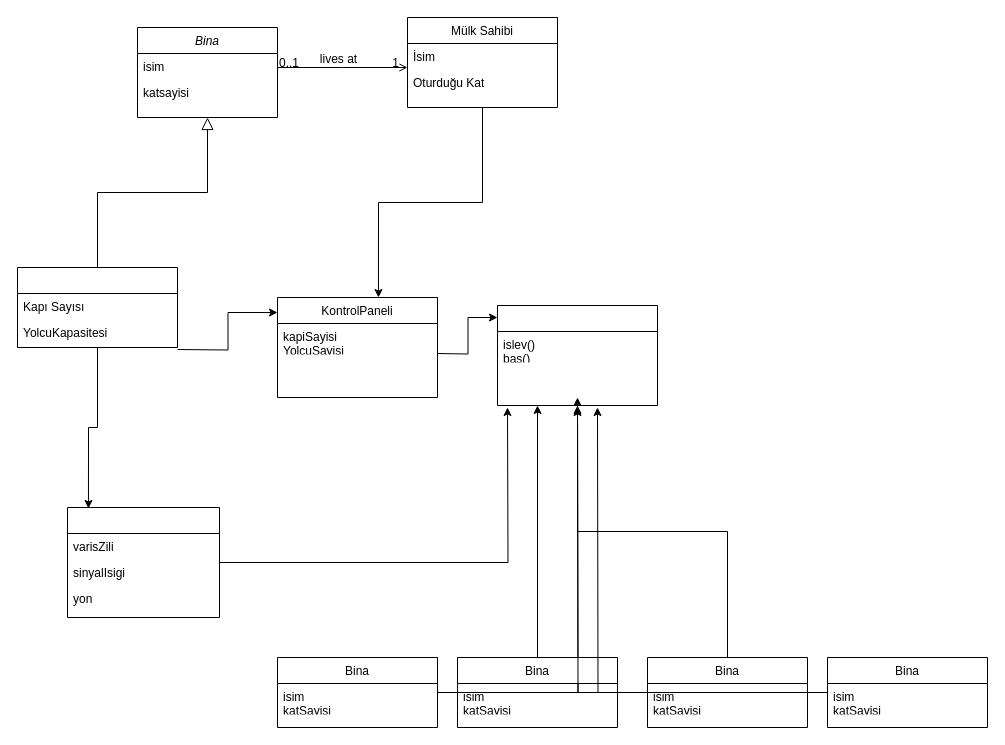
Image size: 1005x745. Some labels were removed from this diagram. The box of each missing label's shape, as (x1, y1, x2, y2) in pixels:
Asanasör: (16, 266, 178, 348)
Asansör Kapısı: (66, 506, 220, 618)
Dugme: (496, 304, 658, 406)
